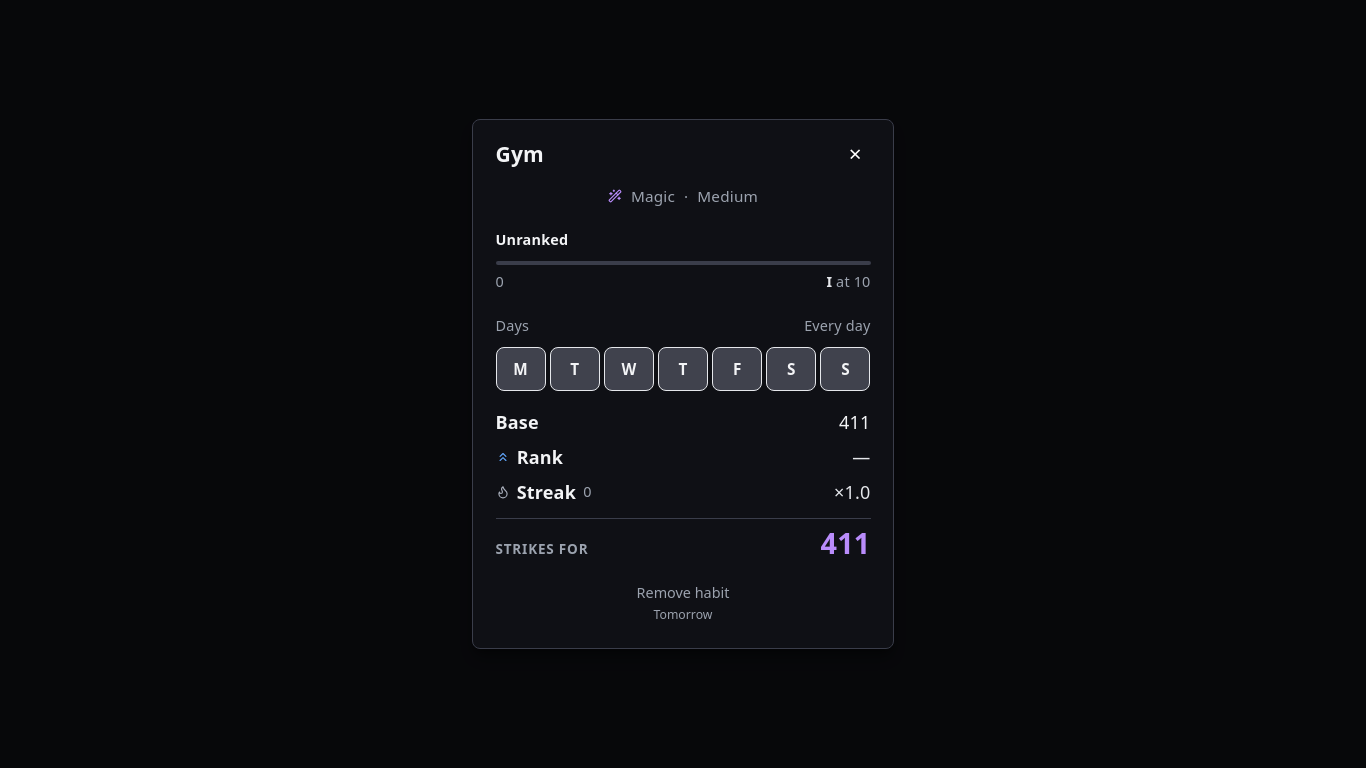
HabitStatsModal › a skill added today can't be removed until tomorrow
Click the button with class "remove-button" at [683, 603], box [626,576,740,630]
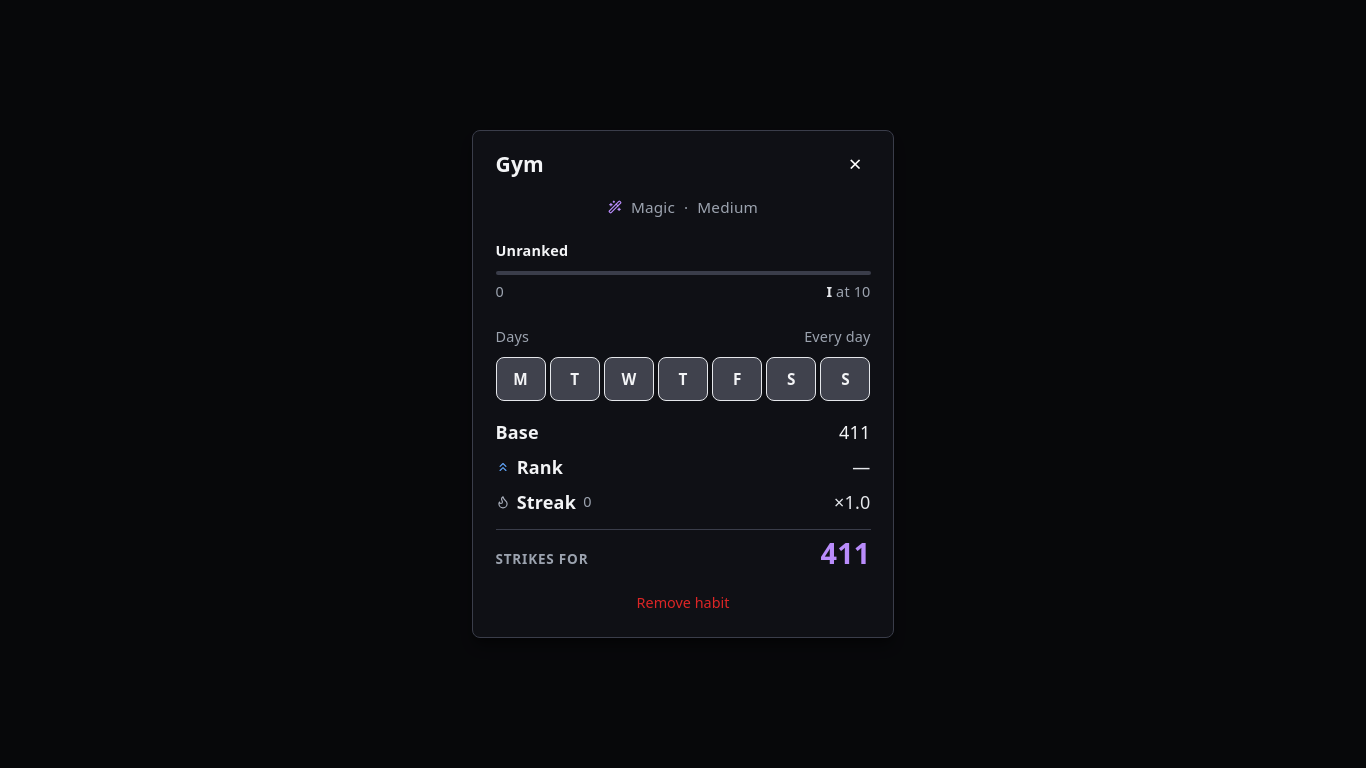
expect the button with class "remove-button" is enabled: met, box [626,586,740,620]
